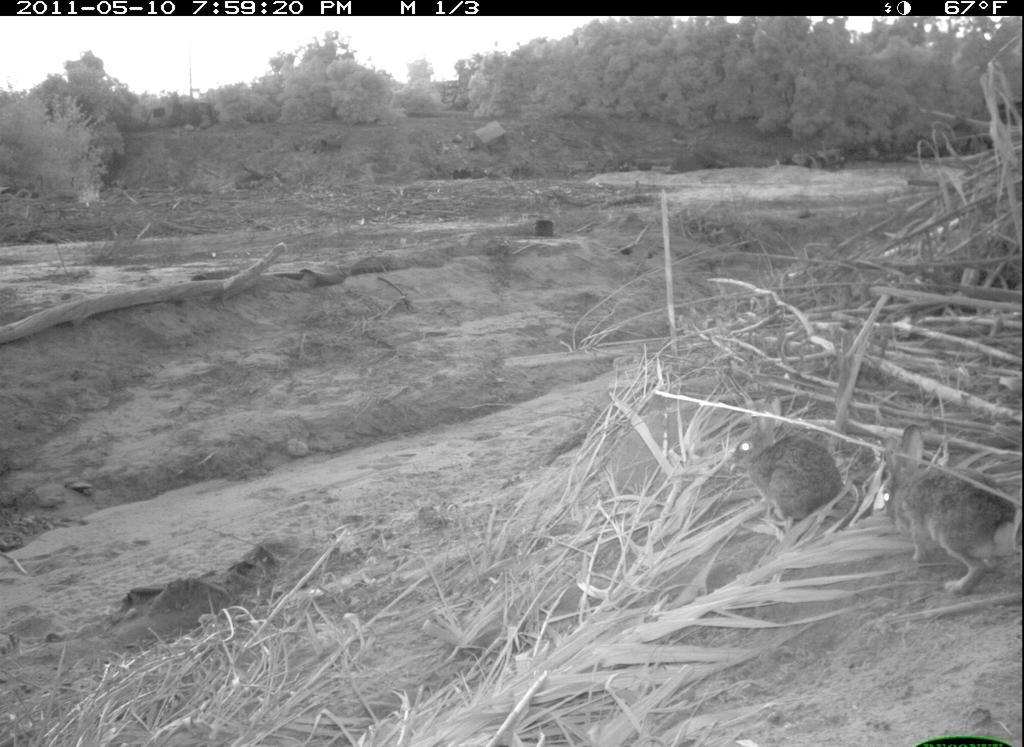rabbit: (875, 422, 1013, 601), (716, 402, 853, 527)
